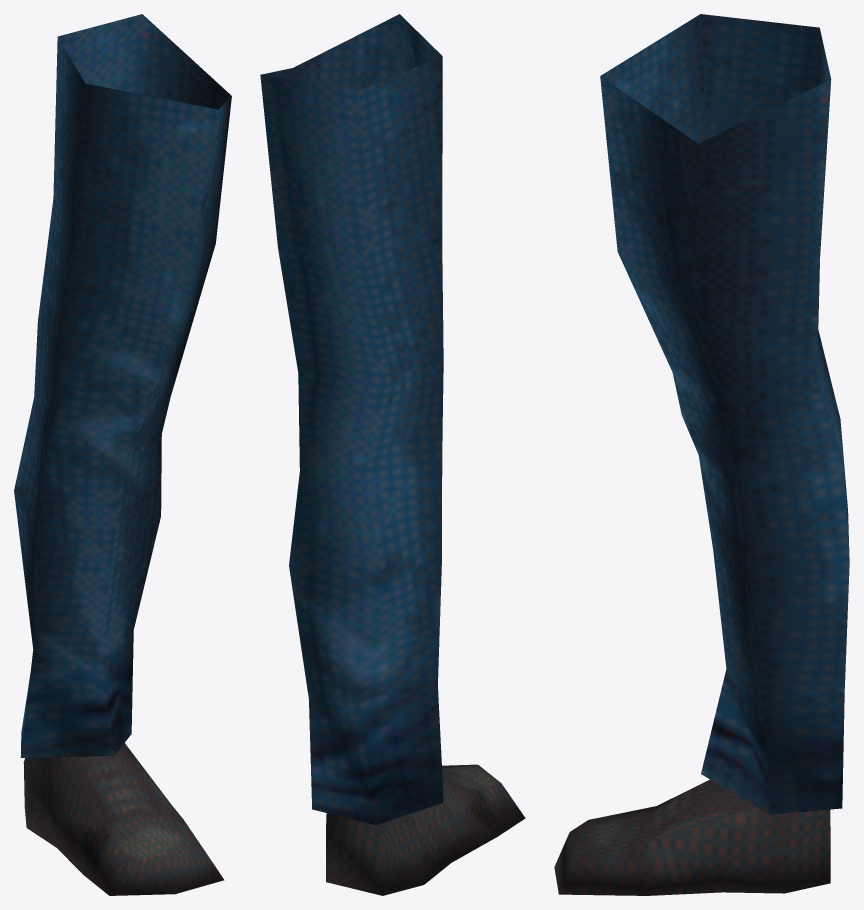
Rendered from man_right_foot.obj.
3 views of the same model, side by side, from view 1: azimuth 30°, elevation 25°; view 2: azimuth 150°, elevation 25°; view 3: azimuth 270°, elevation 25° (orthographic). The views are drawn at different scales.
Visible parts, largest first — view 1: male_player.001; view 2: male_player.001; view 3: male_player.001.
Boxes of the visible parts, box(x1,y1,x2,y2) form: male_player.001: box(14, 14, 231, 895); male_player.001: box(260, 14, 525, 895); male_player.001: box(554, 14, 849, 895).
Bounding box in the file's own units: 0.2253 × 0.9266 × 0.2948.
Materials: 1 (1 with a texture image).
